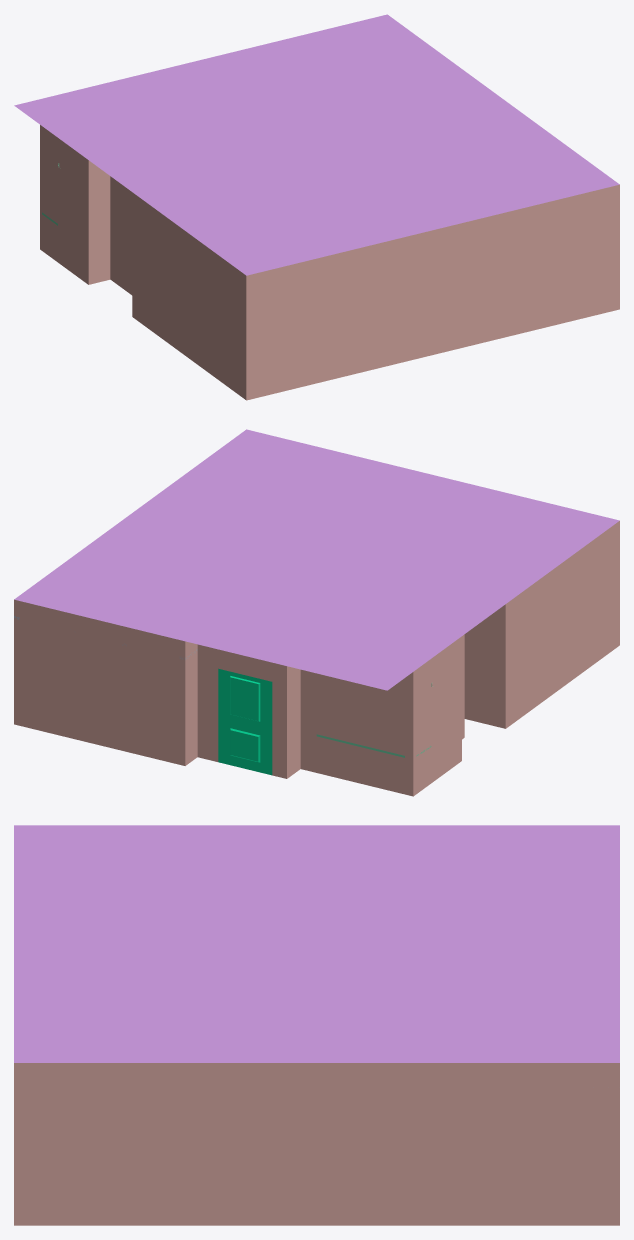
The model's file is Flat_low.fbx.
3 renders of one model, top to bottom at view 1: azimuth 30°, elevation 25°; view 2: azimuth 150°, elevation 25°; view 3: azimuth 270°, elevation 25°, orthographic. The views are drawn at different scales.
Parts seen in each view (by area): view 1: Ceiling_low, Walls_low; view 2: Ceiling_low, Walls_low, Door_low, WallUpDoor_low; view 3: Ceiling_low, Walls_low.
Part boxes in pixels (<box>): Ceiling_low: <box>14,14,619,275</box>; Walls_low: <box>40,125,619,400</box>; Ceiling_low: <box>14,429,619,690</box>; Walls_low: <box>14,521,619,796</box>; Door_low: <box>218,668,272,775</box>; WallUpDoor_low: <box>218,649,272,681</box>; Ceiling_low: <box>14,825,619,1062</box>; Walls_low: <box>14,1063,619,1225</box>.
Bounding box in the file's own units: 627 × 201 × 675.
